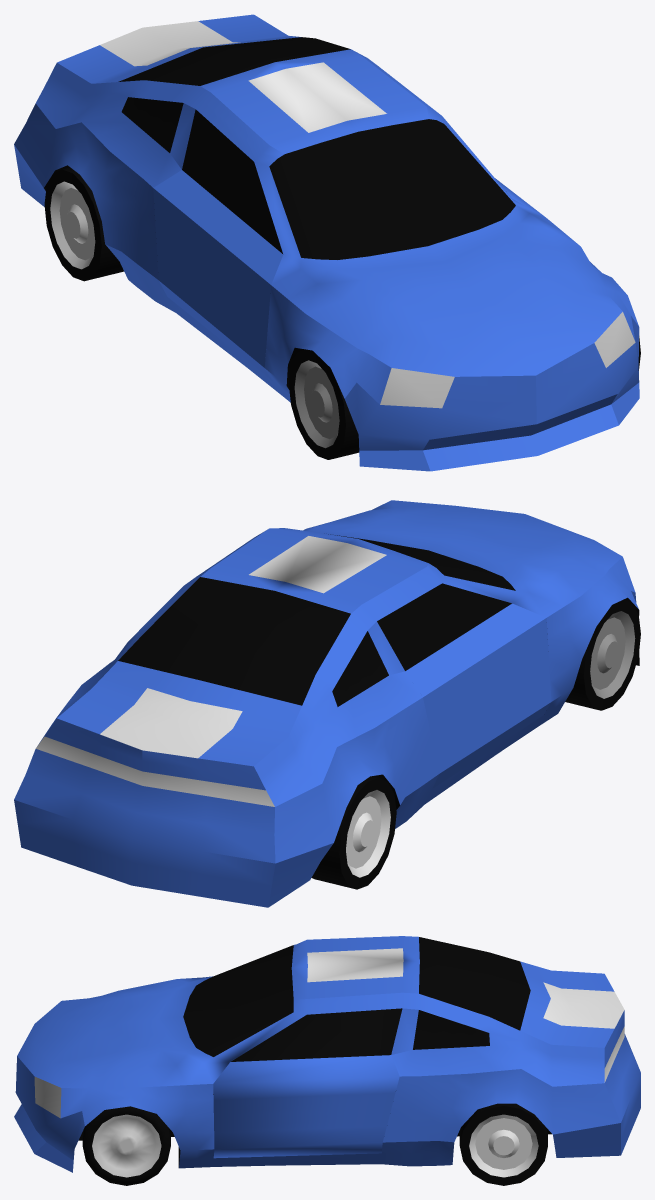
The model's file is sedan.glb.
3 views of the same model, one above another, from view 1: azimuth 30°, elevation 25°; view 2: azimuth 150°, elevation 25°; view 3: azimuth 270°, elevation 25° (orthographic). The views are drawn at different scales.
Visible parts, largest first — view 1: CARRO_001, PORTAS.004, RODAS.003, RODAS.008; view 2: CARRO_001, PORTAS.004, RODAS.003, RODAS.008; view 3: CARRO_001, PORTAS.007, RODAS.003, RODAS.007.
Boxes of the visible parts, box(x1,y1,x2,y2) form: CARRO_001: box(14, 14, 639, 471); PORTAS.004: box(153, 109, 283, 381); RODAS.003: box(44, 167, 123, 281); RODAS.008: box(288, 349, 359, 459); CARRO_001: box(14, 500, 639, 907); PORTAS.004: box(377, 583, 551, 788); RODAS.003: box(311, 776, 396, 889); RODAS.008: box(565, 599, 640, 710); CARRO_001: box(14, 936, 640, 1172); PORTAS.007: box(213, 1008, 402, 1158); RODAS.003: box(459, 1103, 547, 1185); RODAS.007: box(82, 1106, 170, 1185).
Bounding box in the file's own units: 1.69 × 1.18 × 3.95.
